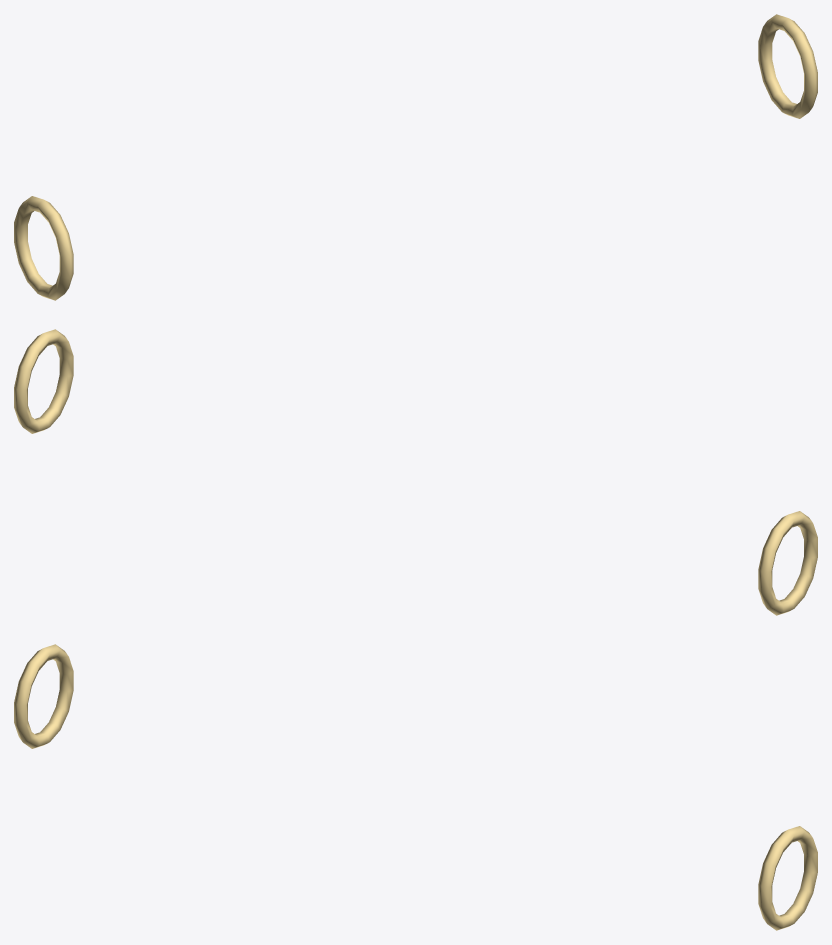
The model's file is SM_F_Ear_HoopSmall.fbx.
3 views of the same model, one above another, from view 1: azimuth 30°, elevation 25°; view 2: azimuth 150°, elevation 25°; view 3: azimuth 330°, elevation 25° (orthographic).
Visible parts, largest first — view 1: SM_F_Ear_HoopSmall_L, SM_F_Ear_HoopSmall_R; view 2: SM_F_Ear_HoopSmall_L, SM_F_Ear_HoopSmall_R; view 3: SM_F_Ear_HoopSmall_L, SM_F_Ear_HoopSmall_R.
Part boxes in pixels (x1=…): SM_F_Ear_HoopSmall_L: x1=758, y1=14, x2=817, y2=118; SM_F_Ear_HoopSmall_R: x1=14, y1=196, x2=73, y2=300; SM_F_Ear_HoopSmall_L: x1=14, y1=329, x2=73, y2=433; SM_F_Ear_HoopSmall_R: x1=758, y1=511, x2=817, y2=615; SM_F_Ear_HoopSmall_L: x1=758, y1=826, x2=817, y2=930; SM_F_Ear_HoopSmall_R: x1=14, y1=644, x2=73, y2=748.
Bounding box in the file's own units: 0.1885 × 0.0232 × 0.0226.
